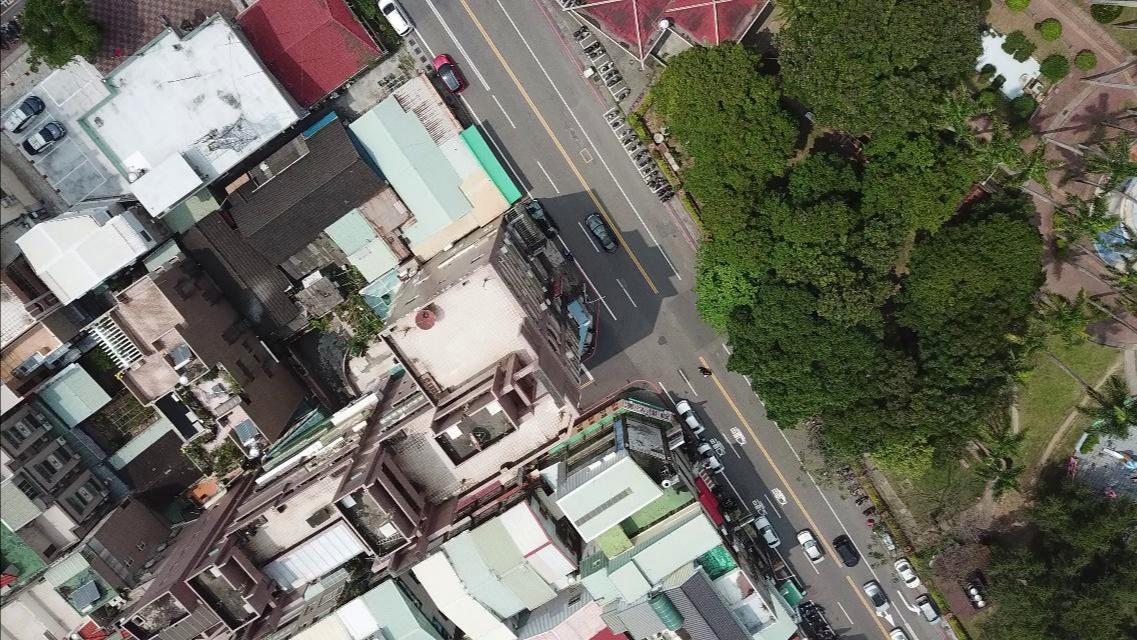vehicle: (2, 95, 45, 134), (21, 121, 66, 156), (523, 198, 560, 240), (431, 53, 467, 96), (375, 0, 413, 39), (584, 213, 619, 254), (674, 399, 706, 435), (795, 529, 825, 565), (831, 534, 861, 568), (696, 441, 724, 475), (861, 580, 889, 613), (753, 515, 780, 549), (892, 557, 920, 589), (914, 594, 942, 626), (886, 628, 908, 639)
